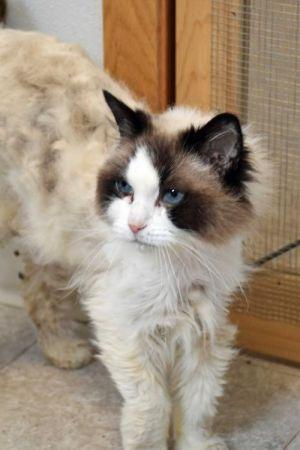ragdoll: (85, 85, 258, 262)
